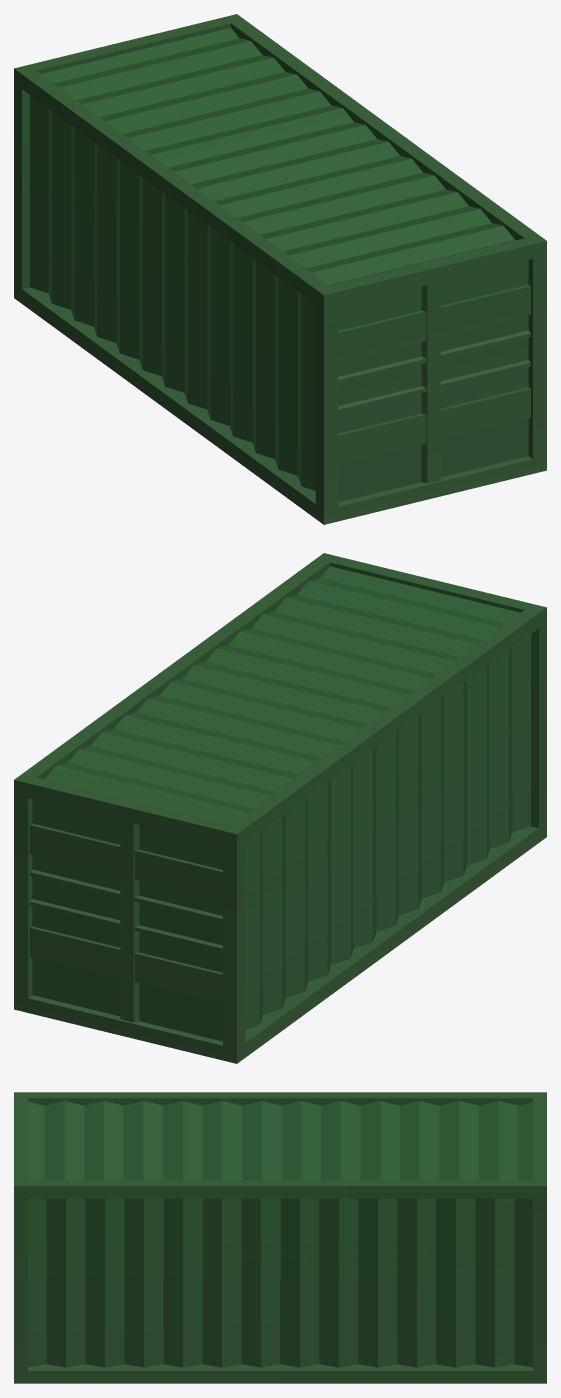
Rendered from Container_1_3.fbx.
3 views of the same model, one above another, from view 1: azimuth 30°, elevation 25°; view 2: azimuth 150°, elevation 25°; view 3: azimuth 270°, elevation 25° (orthographic). The views are drawn at different scales.
Parts seen in each view (by area): view 1: Container_1_3; view 2: Container_1_3; view 3: Container_1_3.
Part boxes in pixels (x1,y1,x2,y2): Container_1_3: (14,14,546,524); Container_1_3: (14,553,546,1063); Container_1_3: (14,1092,546,1383).
Size of the model in its own units: 198 by 195 by 477.
